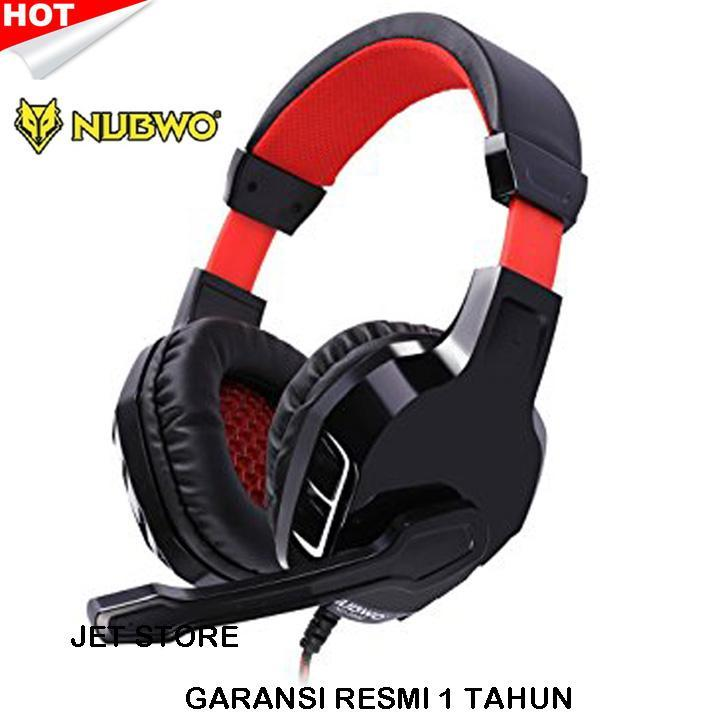Headphone: (96, 1, 596, 660)
